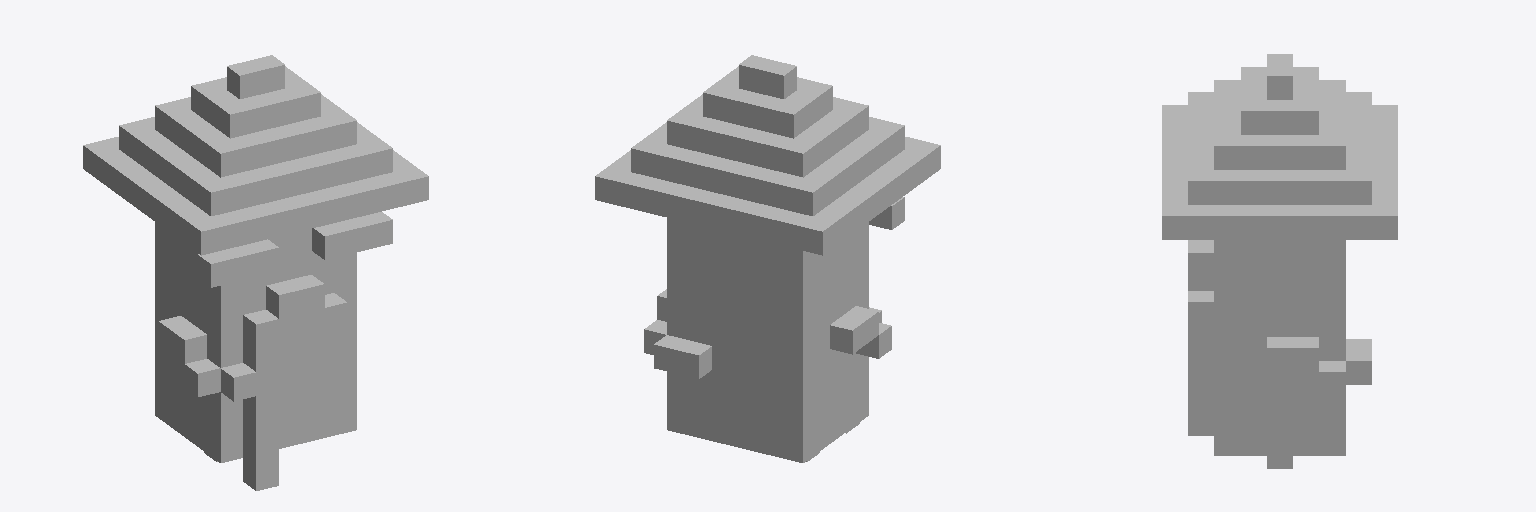
Rendered from chr_old.obj.
3 renders of one model, left to right at view 1: azimuth 30°, elevation 25°; view 2: azimuth 150°, elevation 25°; view 3: azimuth 270°, elevation 25°, orthographic.
Size of the model in its own units: 10 by 16 by 9.